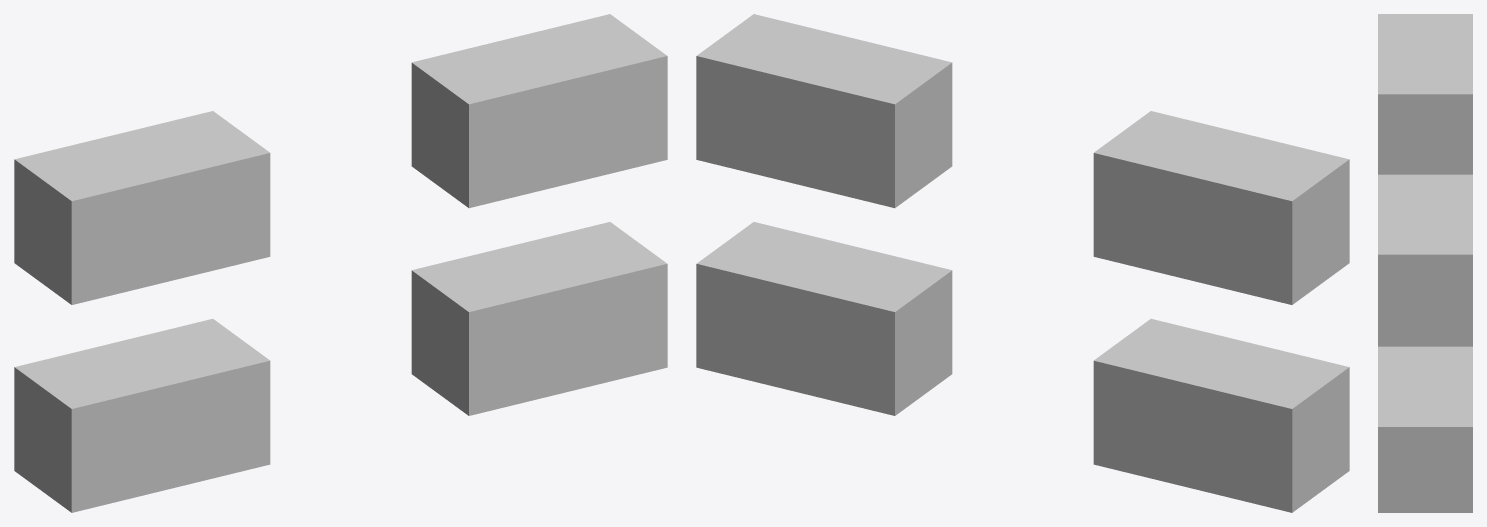
3 views of the same model, side by side, from view 1: azimuth 30°, elevation 25°; view 2: azimuth 150°, elevation 25°; view 3: azimuth 270°, elevation 25° (orthographic). The views are drawn at different scales.
Visible parts, largest first — view 1: 91.1; view 2: 91.1; view 3: 91.1.
Part boxes in pixels (left/top/right/bottom): 91.1: left=14, top=14, right=667, bottom=512; 91.1: left=696, top=14, right=1349, bottom=512; 91.1: left=1378, top=14, right=1472, bottom=512.
Size of the model in its own units: 60 by 30 by 10.
1 material, 1 textured.
